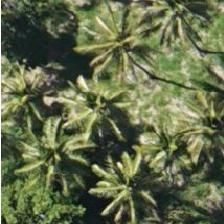coconut_tree: (4, 111, 94, 201), (77, 138, 167, 223)
